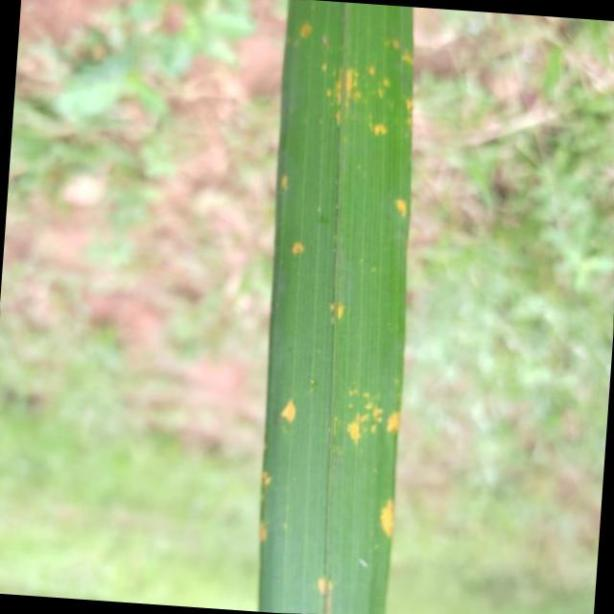Kalium: (256, 0, 416, 614)
